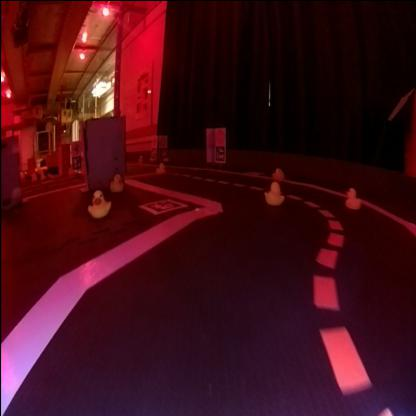Duckie: (264, 182, 284, 204), (344, 186, 361, 208), (110, 174, 124, 190), (272, 166, 284, 180), (156, 162, 166, 172)
QR code: (138, 196, 188, 212), (214, 144, 224, 160)
